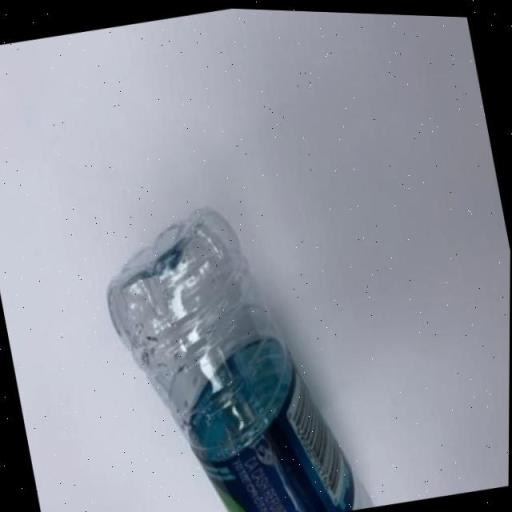plastic: (87, 177, 378, 512)
